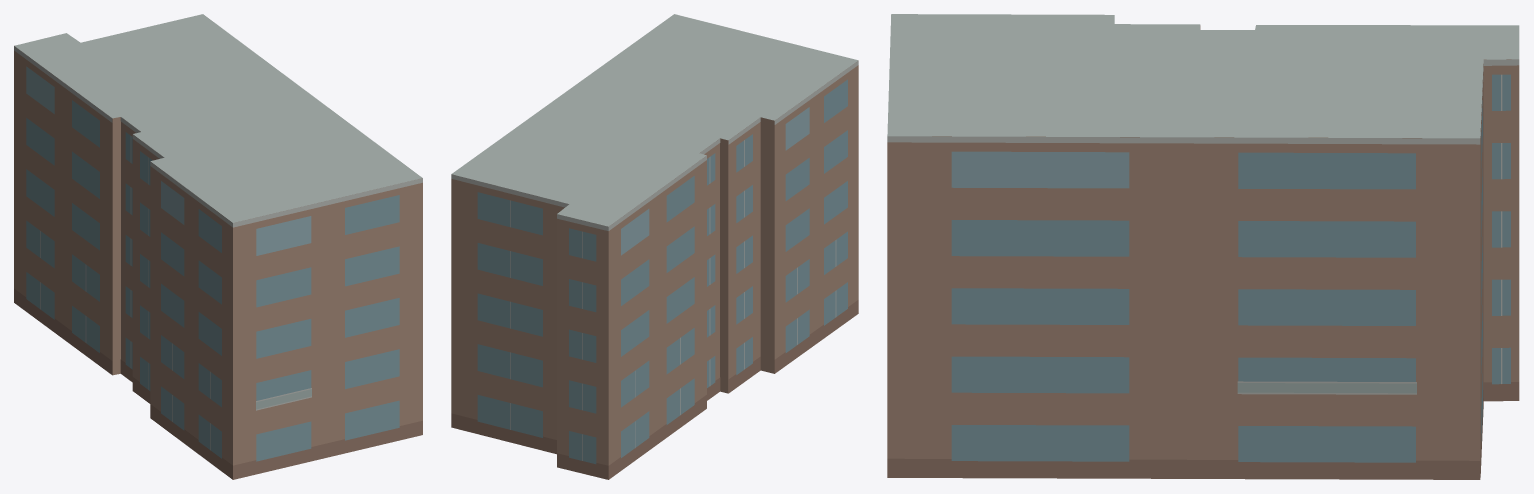
The model's file is survey-upis-32587249.glb.
3 renders of one model, left to right at view 1: azimuth 30°, elevation 25°; view 2: azimuth 150°, elevation 25°; view 3: azimuth 270°, elevation 25°, orthographic. The views are drawn at different scales.
Parts seen in each view (by area): view 1: survey-upis-32587249.tmp; view 2: survey-upis-32587249.tmp; view 3: survey-upis-32587249.tmp.
Part boxes in pixels (x1=…): survey-upis-32587249.tmp: x1=14, y1=14, x2=422, y2=479; survey-upis-32587249.tmp: x1=451, y1=14, x2=858, y2=479; survey-upis-32587249.tmp: x1=887, y1=14, x2=1519, y2=479.
Bounding box in the file's own units: 10.56 × 13.5 × 22.66.
